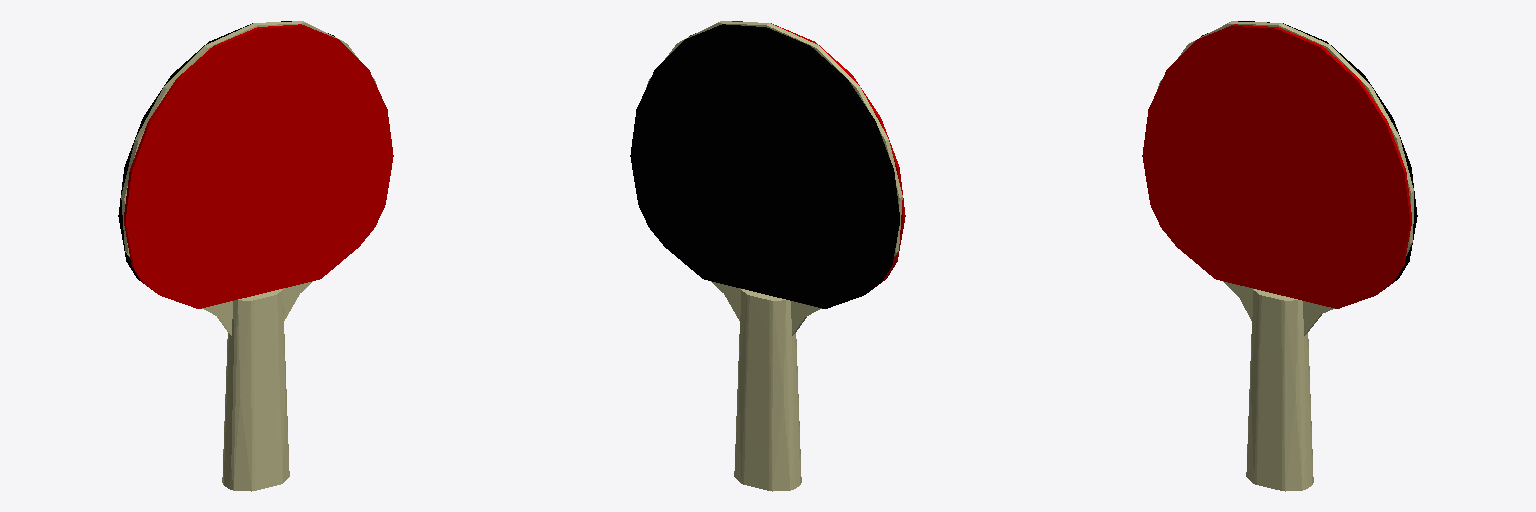
URDF robot description (ping_pong_racket):
<?xml version="1.0" ?>
<robot name="ping_pong_racket">

  <link name="ping_pong_racket__body">
    
    <inertial>
      <mass value="0"/>
      <origin rpy="0 0 0" xyz="0 0 0"/>
      <inertia ixx="0" ixy="0" ixz="0" iyy="0" iyz="0" izz="0"/>
    </inertial>

    <collision name="ping_pong_racket__racket_collision">
      <origin rpy="1.5707 0     0" xyz="0   0   0.17"/>
      <geometry>
        <cylinder length=".007" radius=".07"/>
      </geometry>
    </collision>

    <visual name="ping_pong_racket__visual">
      <origin rpy="0 0 0" xyz="0 0 0"/>
      <geometry>
        <mesh filename="package://PATHTOMESHES/meshes/racket.dae" scale="1.0 1.0 1.0"/>
      </geometry>
    </visual>

  </link>

</robot>

--- Render facts (derived) ---
Views: 3 orthographic renders of the robot side by side, from view 1: azimuth 30°, elevation 25°; view 2: azimuth 150°, elevation 25°; view 3: azimuth 330°, elevation 25°.
Robot: ping_pong_racket — 1 links, 0 joints (none); root link ping_pong_racket__body; default pose: every joint at zero.
Links seen in each view (by area): view 1: ping_pong_racket__body; view 2: ping_pong_racket__body; view 3: ping_pong_racket__body.
Link boxes in pixels (bbox=[...]): ping_pong_racket__body: bbox=[118, 21, 393, 491]; ping_pong_racket__body: bbox=[630, 21, 905, 491]; ping_pong_racket__body: bbox=[1142, 21, 1417, 491].
Bounding box of the posed robot: 0.1491 × 0.0217 × 0.2422 m (x, y, z).
1 mesh visuals loaded from 1 distinct referenced files (1 Collada DAE).